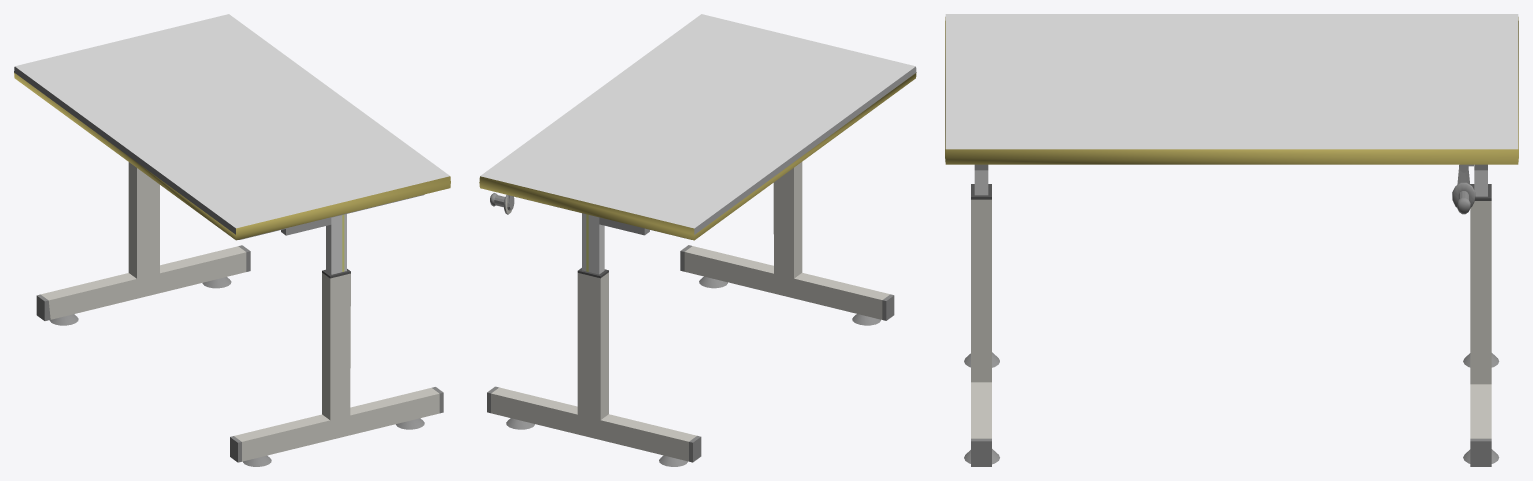
File: work_table.dae
The picture shows the model from 3 angles, left to right: view 1: azimuth 30°, elevation 25°; view 2: azimuth 150°, elevation 25°; view 3: azimuth 270°, elevation 25°; orthographic projection. The views are drawn at different scales.
Parts seen in each view (by area): view 1: work_table; view 2: work_table; view 3: work_table.
Boxes of the visible parts, x1=… form: work_table: x1=14, y1=14, x2=450, y2=466; work_table: x1=479, y1=14, x2=916, y2=466; work_table: x1=945, y1=14, x2=1518, y2=466.
Bounding box in the file's own units: 0.7 × 1.2 × 0.75.
